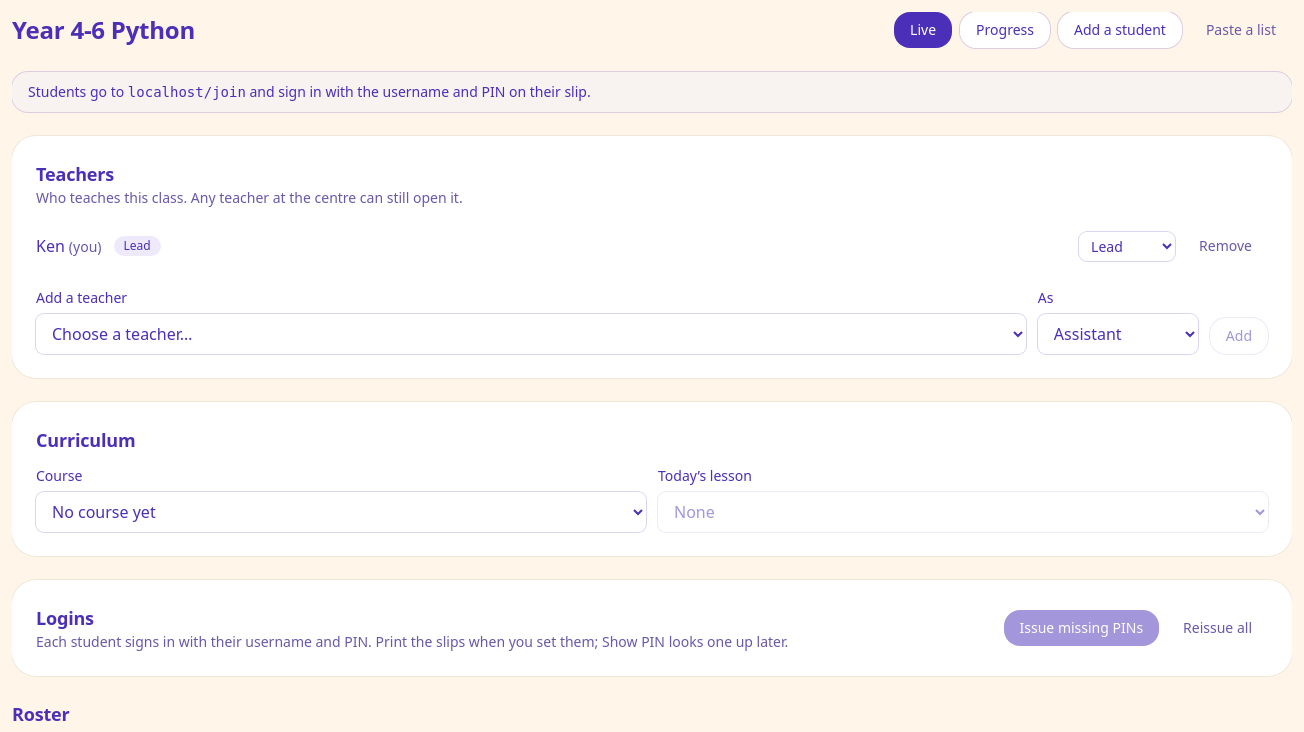
it: a teacher can be added as an assistant
expect the text "Ken" is shown: met, box [36,235,65,257]
Select "Sam Lee (sam@school.test)" in the dropdown labelled "Add a teacher" at (531, 334), box [36,314,1026,354]
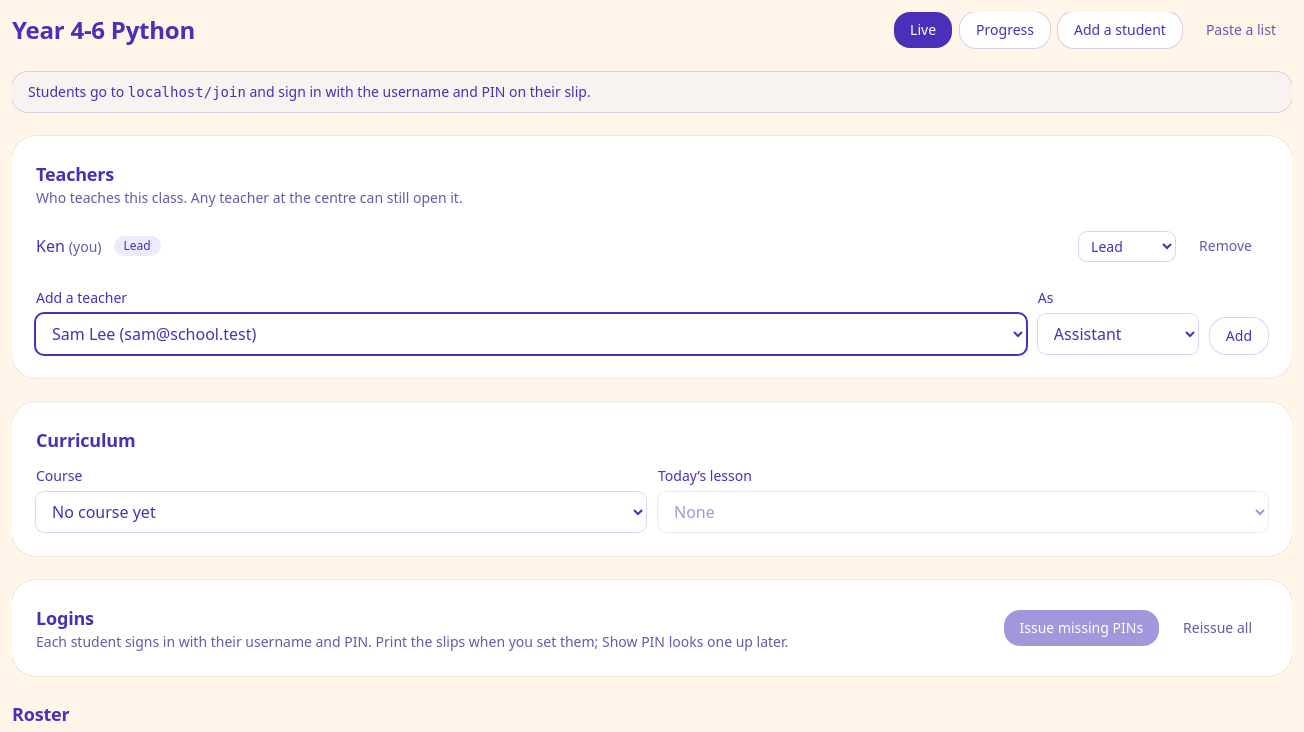
Click the button "Add" at (1239, 336), box [1210,318,1268,354]
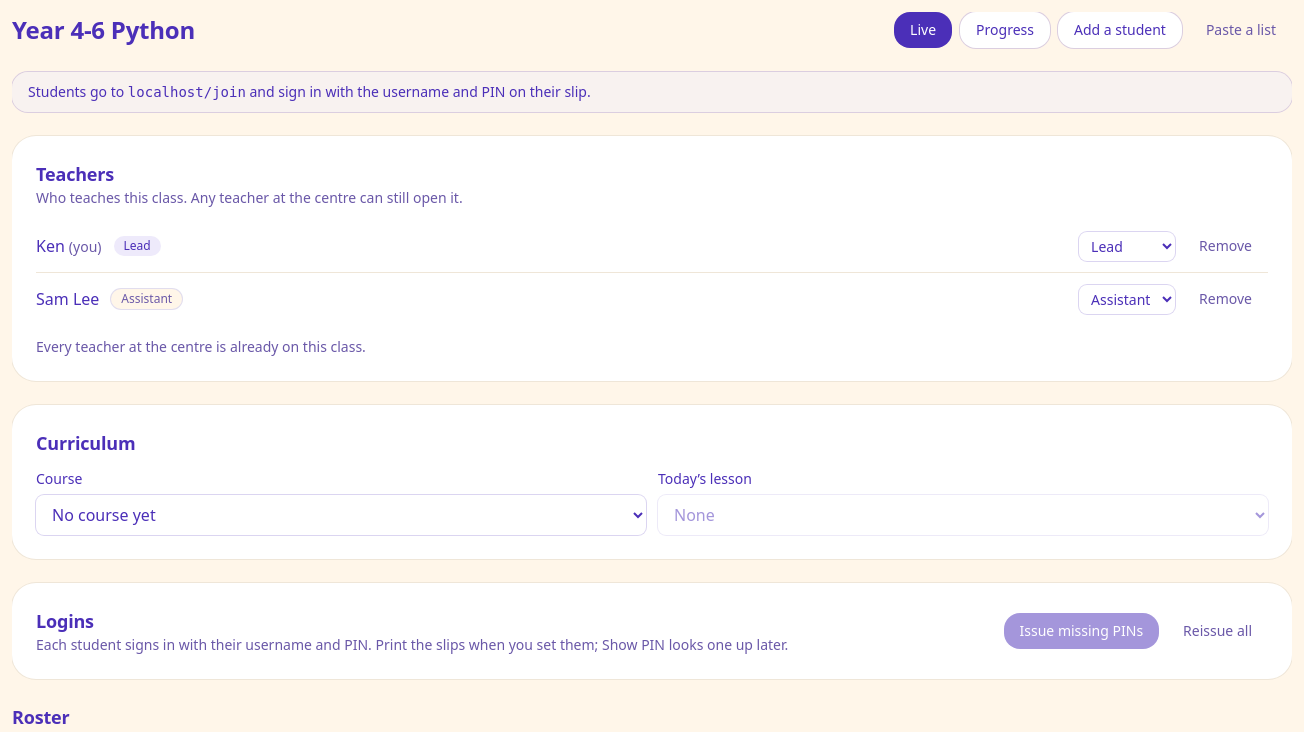
expect the text "Assistant" is shown: met, box [111,289,182,309]
